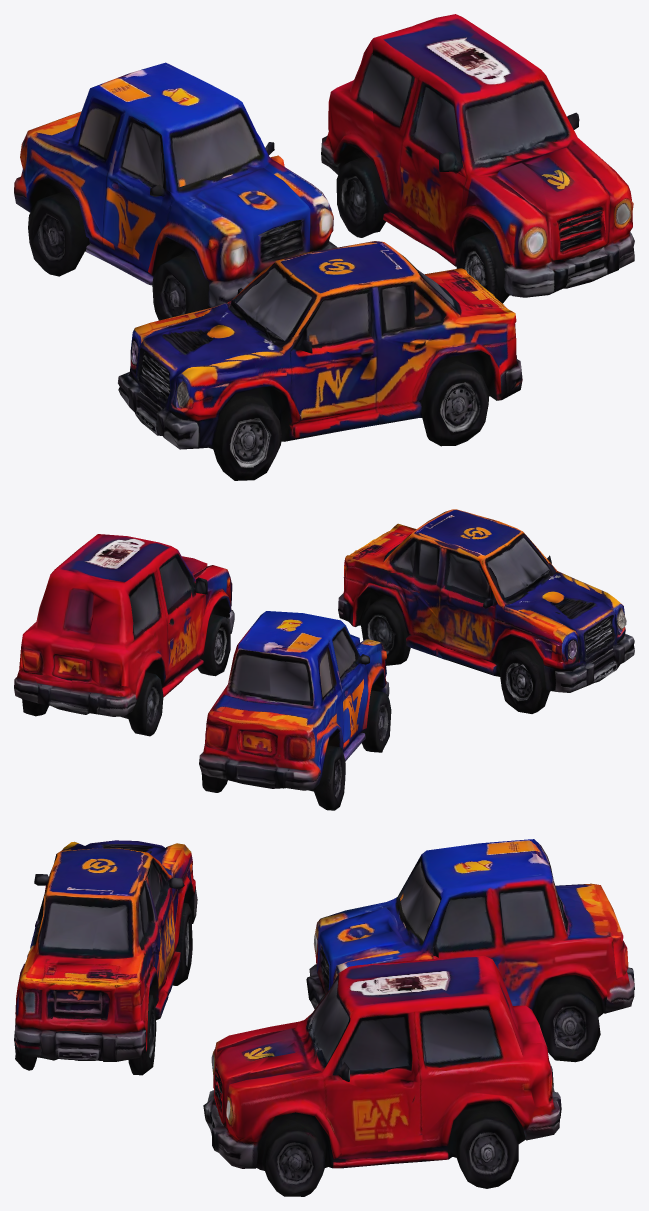
The model's file is car.glb.
3 views of the same model, one above another, from view 1: azimuth 30°, elevation 25°; view 2: azimuth 150°, elevation 25°; view 3: azimuth 270°, elevation 25° (orthographic). The views are drawn at different scales.
Parts seen in each view (by area): view 1: tripo_node_de948075-90de-405d-b5b7-94ba328fa1f2; view 2: tripo_node_de948075-90de-405d-b5b7-94ba328fa1f2; view 3: tripo_node_de948075-90de-405d-b5b7-94ba328fa1f2.
Part boxes in pixels (bbox=[...]): tripo_node_de948075-90de-405d-b5b7-94ba328fa1f2: bbox=[14, 14, 634, 480]; tripo_node_de948075-90de-405d-b5b7-94ba328fa1f2: bbox=[14, 509, 634, 810]; tripo_node_de948075-90de-405d-b5b7-94ba328fa1f2: bbox=[14, 839, 634, 1196].
Size of the model in its own units: 1.11 by 0.3702 by 1.13.
1 material, 1 textured.
